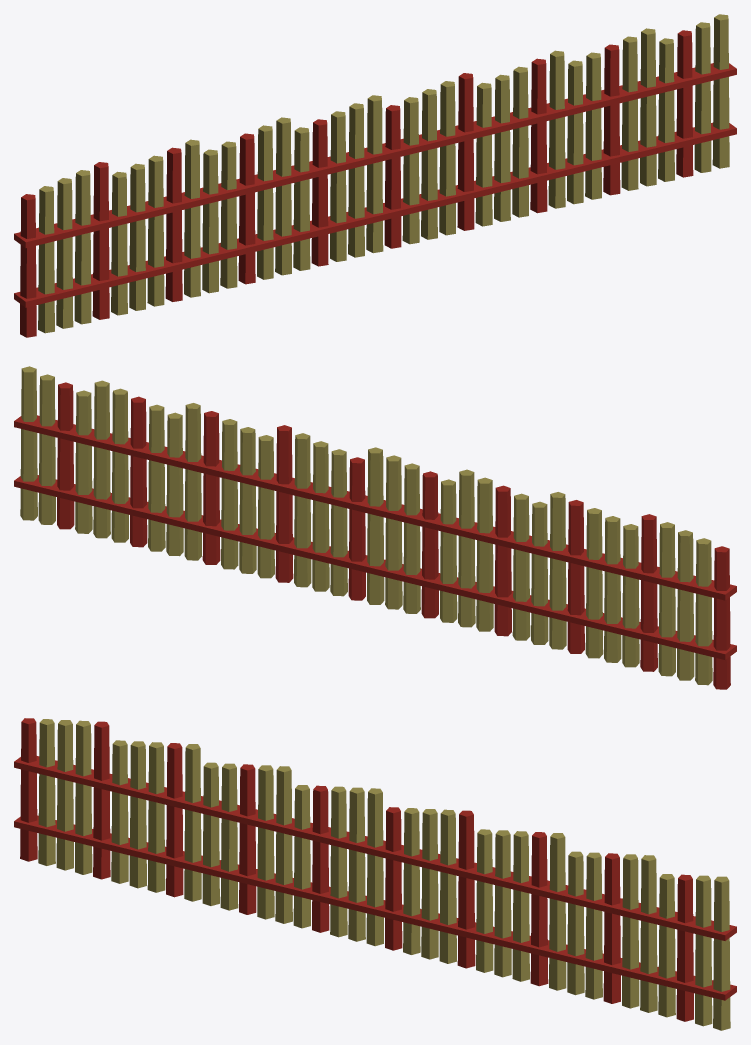
The model's file is macaque_wall.glb.
3 renders of one model, top to bottom at view 1: azimuth 30°, elevation 25°; view 2: azimuth 150°, elevation 25°; view 3: azimuth 330°, elevation 25°, orthographic.
Parts seen in each view (by area): view 1: macaque_wall; view 2: macaque_wall; view 3: macaque_wall.
Part boxes in pixels (left/top/right/bottom): macaque_wall: left=14, top=14, right=736, bottom=337; macaque_wall: left=14, top=366, right=736, bottom=689; macaque_wall: left=14, top=718, right=736, bottom=1030.
Bounding box in the file's own units: 6.25 × 1.27 × 0.18.
